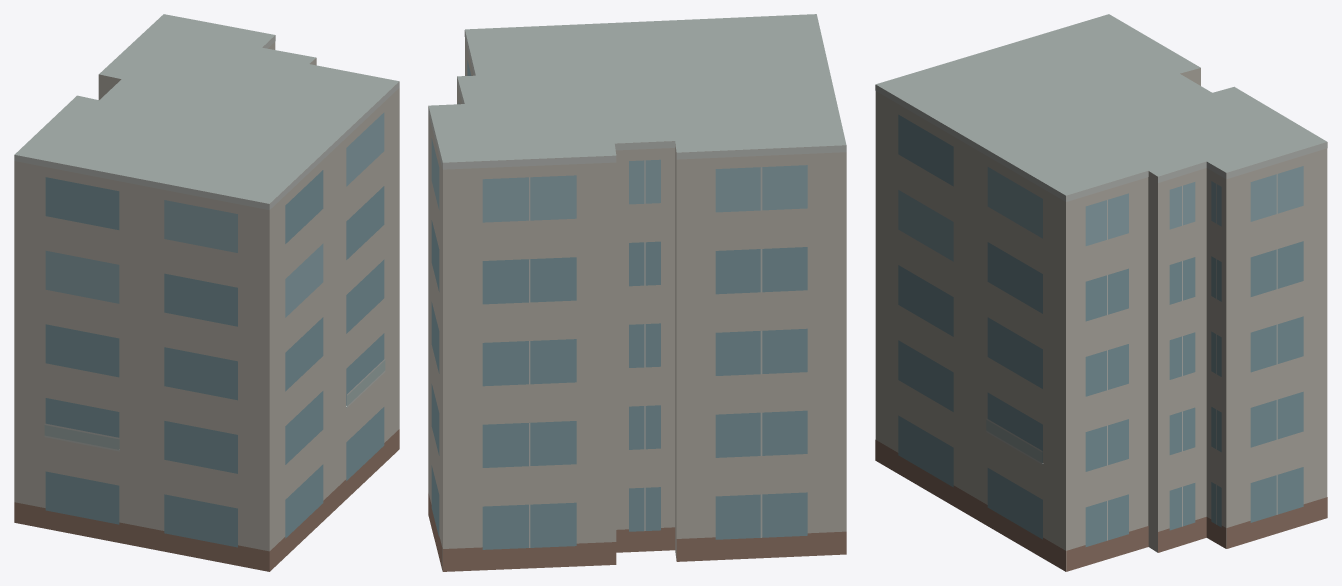
The model's file is survey-upis-32662449.glb.
3 renders of one model, left to right at view 1: azimuth 30°, elevation 25°; view 2: azimuth 150°, elevation 25°; view 3: azimuth 270°, elevation 25°, orthographic. The views are drawn at different scales.
Parts seen in each view (by area): view 1: survey-upis-32662449.tmp; view 2: survey-upis-32662449.tmp; view 3: survey-upis-32662449.tmp.
Boxes of the visible parts, left/top/right/bottom form: survey-upis-32662449.tmp: left=14, top=14, right=399, bottom=571; survey-upis-32662449.tmp: left=428, top=14, right=846, bottom=571; survey-upis-32662449.tmp: left=875, top=14, right=1327, bottom=571.
Size of the model in its own units: 14.93 by 14.4 by 15.69.
